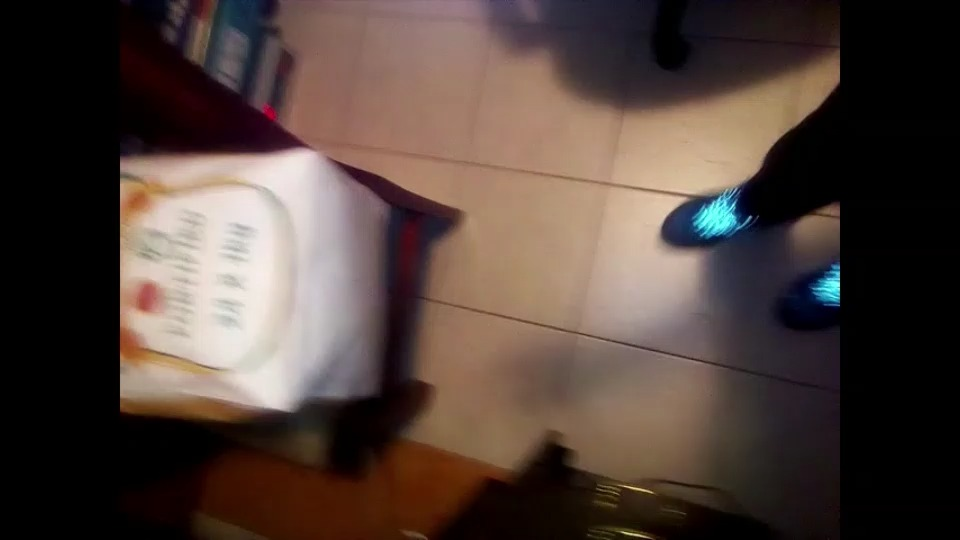maize_flour_green_label: (122, 156, 385, 406)
